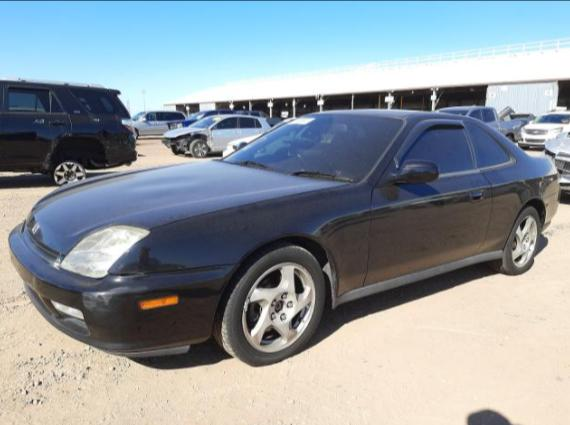Broken part: (105, 264, 204, 278)
Scratch: (78, 290, 115, 321)
